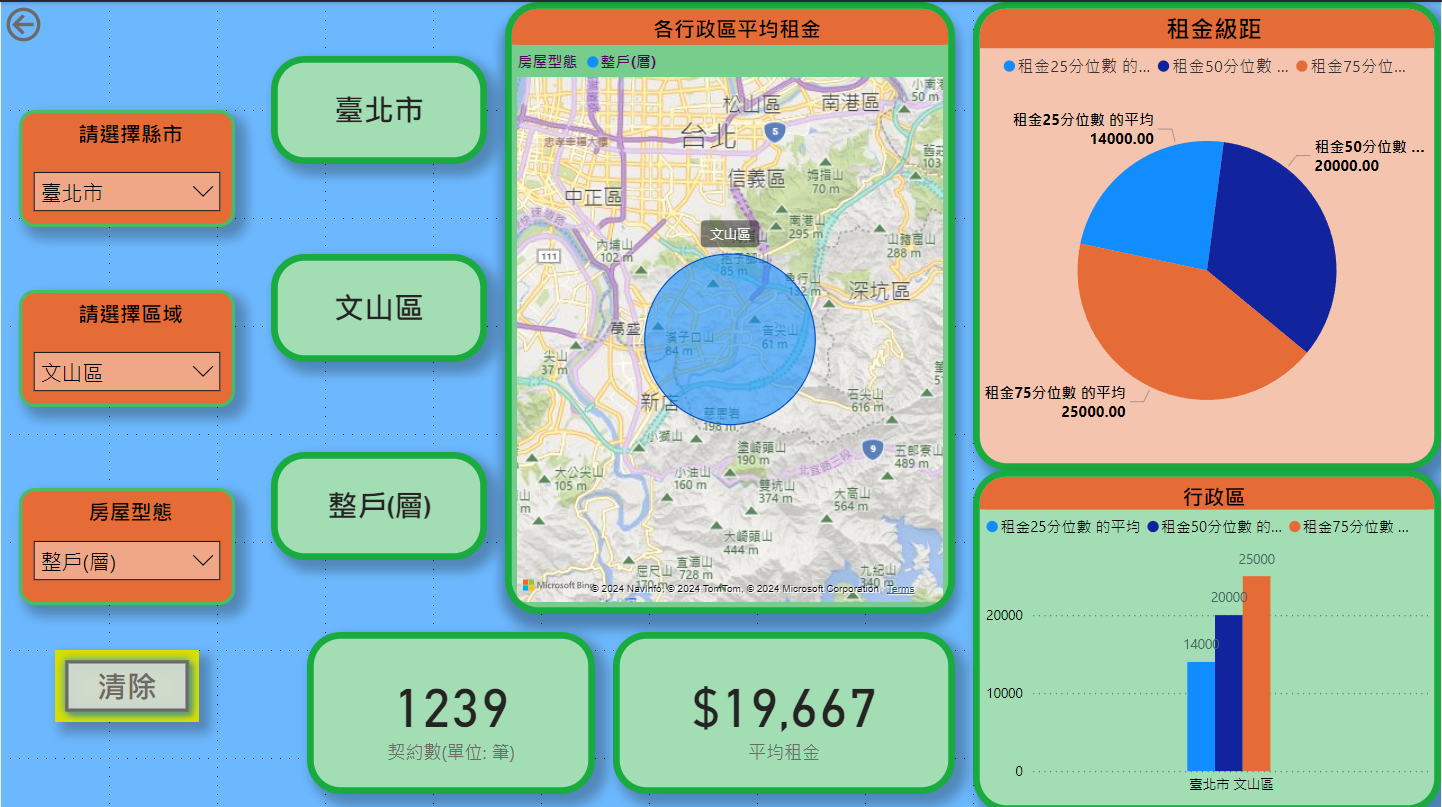

This screenshot's page, from the dashboard's own definition file:
{"tool":"powerbi","page":{"name":"第 1 頁","canvas":[1280,720],"ordinal":0},"visuals":[{"type":"slicer","title":"請選擇縣市","fields":{"Values":["分房屋型態租金統計.縣市"]},"box":[16,96,192,104],"z":0},{"type":"slicer","title":"請選擇區域","fields":{"Values":["分房屋型態租金統計.行政區"]},"box":[16,256,192,104],"z":1000},{"type":"slicer","title":"房屋型態","fields":{"Values":["分房屋型態租金統計.房屋型態"]},"box":[16,432,192,104],"z":2000},{"type":"pieChart","title":"租金級距","fields":{"Y":["Avg(分房屋型態租金統計.租金25分位數)","Avg(分房屋型態租金統計.租金50分位數)","Avg(分房屋型態租金統計.租金75分位數)"]},"box":[864,0,416,416],"z":3000},{"type":"map","title":"各行政區平均租金","fields":{"Category":["分房屋型態租金統計.行政區","分房屋型態租金統計.縣市"],"Series":["分房屋型態租金統計.房屋型態"],"Size":["Avg(分房屋型態租金統計.平均租金)"]},"box":[448,0,400,544],"z":4000},{"type":"actionButton","box":[0,0,100,40],"z":5000},{"type":"clusteredColumnChart","title":"行政區","fields":{"Category":["分房屋型態租金統計.縣市","分房屋型態租金統計.行政區"],"Y":["Avg(分房屋型態租金統計.租金25分位數)","Avg(分房屋型態租金統計.租金50分位數)","Avg(分房屋型態租金統計.租金75分位數)"]},"box":[864,416,416,304],"z":6000},{"type":"card","fields":{"Values":["Avg(分房屋型態租金統計.平均租金)"]},"box":[544,560,304,144],"z":7000},{"type":"card","fields":{"Values":["Min(分房屋型態租金統計.房屋型態)"]},"box":[240,400,192,96],"z":8000},{"type":"card","fields":{"Values":["Sum(分房屋型態租金統計.契約數)"]},"box":[272,560,256,144],"z":9000},{"type":"card","fields":{"Values":["Min(分房屋型態租金統計.行政區)"]},"box":[240,224,192,96],"z":10000},{"type":"card","fields":{"Values":["Min(分房屋型態租金統計.縣市)"]},"box":[240,48,192,96],"z":11000},{"type":"actionButton","box":[48,576,128,64],"z":12000}]}

Visuals, with their boxes in screenshot pixels (x1, y1, x2, y2), scaled from the page's 1280x720 canvas onto the 1442x807 screenshot:
"請選擇縣市" slicer: <bbox>18, 108, 234, 224</bbox>
"請選擇區域" slicer: <bbox>18, 287, 234, 404</bbox>
"房屋型態" slicer: <bbox>18, 484, 234, 601</bbox>
"租金級距" pieChart: <bbox>973, 0, 1441, 466</bbox>
"各行政區平均租金" map: <bbox>505, 0, 955, 610</bbox>
actionButton: <bbox>0, 0, 113, 45</bbox>
"行政區" clusteredColumnChart: <bbox>973, 466, 1441, 806</bbox>
card - Avg(分房屋型態租金統計.平均租金): <bbox>613, 628, 955, 789</bbox>
card - Min(分房屋型態租金統計.房屋型態): <bbox>270, 448, 487, 556</bbox>
card - Sum(分房屋型態租金統計.契約數): <bbox>306, 628, 595, 789</bbox>
card - Min(分房屋型態租金統計.行政區): <bbox>270, 251, 487, 359</bbox>
card - Min(分房屋型態租金統計.縣市): <bbox>270, 54, 487, 161</bbox>
actionButton: <bbox>54, 646, 198, 717</bbox>
